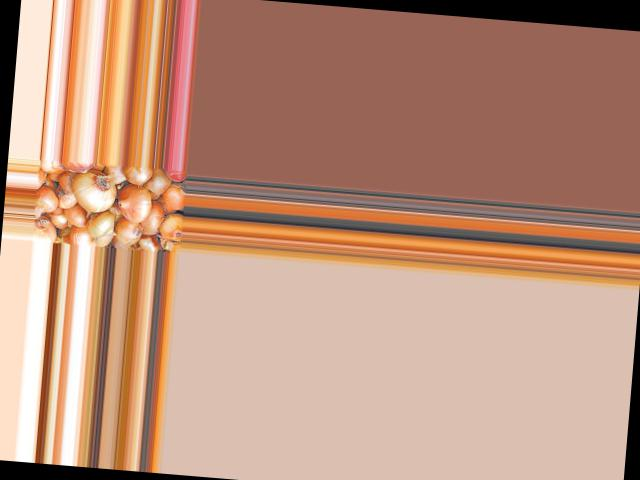onion: (115, 216, 144, 245)
